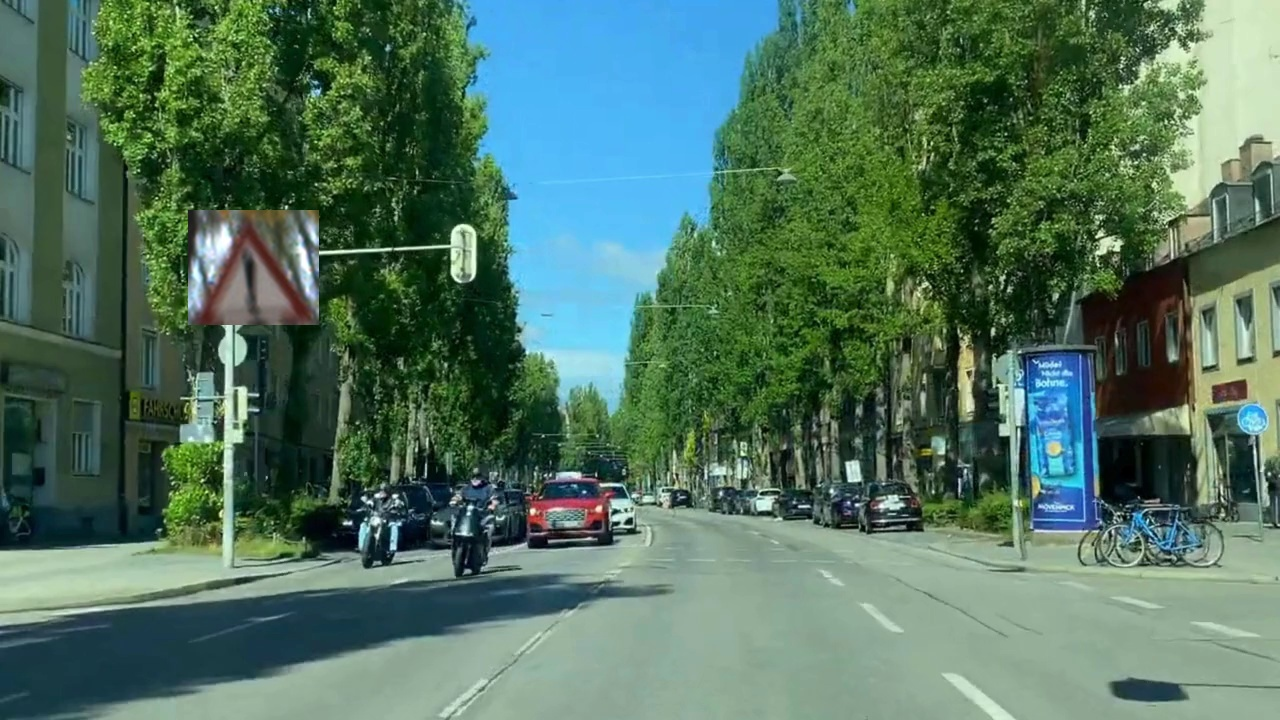Caution: (188, 210, 319, 325)
